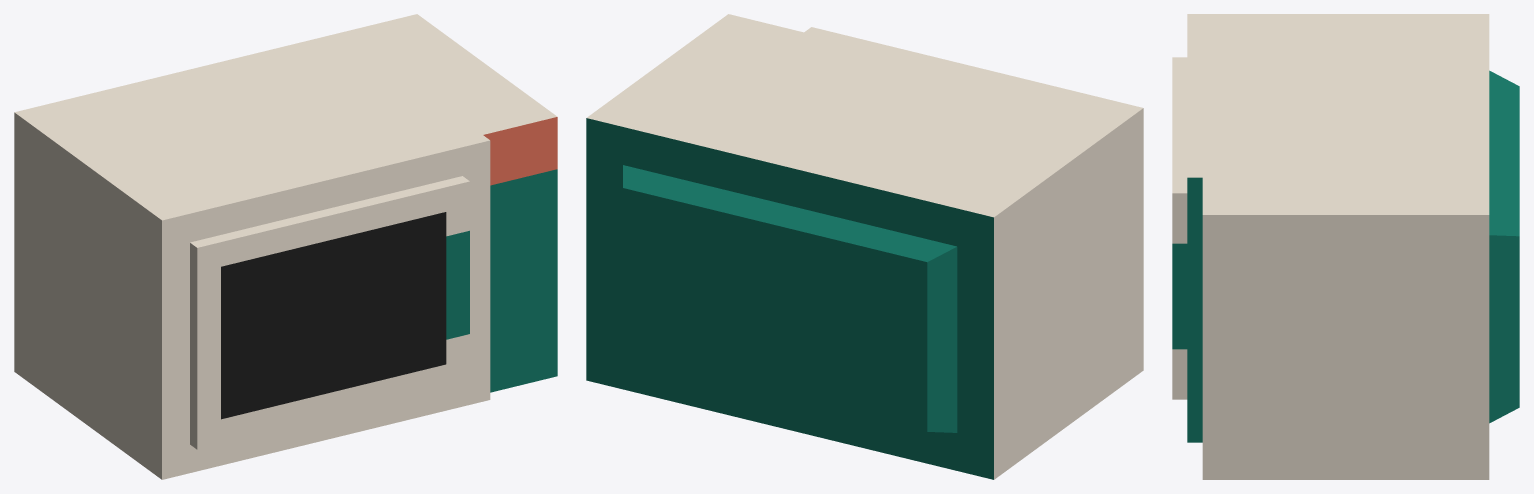
File: microwave_a.glb
3 views of the same model, side by side, from view 1: azimuth 30°, elevation 25°; view 2: azimuth 150°, elevation 25°; view 3: azimuth 270°, elevation 25° (orthographic). The views are drawn at different scales.
Visible parts, largest first — view 1: body; view 2: body; view 3: body.
Part boxes in pixels (x1,y1,x2,y2): body: (14, 14, 557, 479); body: (586, 14, 1143, 479); body: (1172, 14, 1519, 479).
Bounding box in the file's own units: 0.52 × 0.32 × 0.38.
